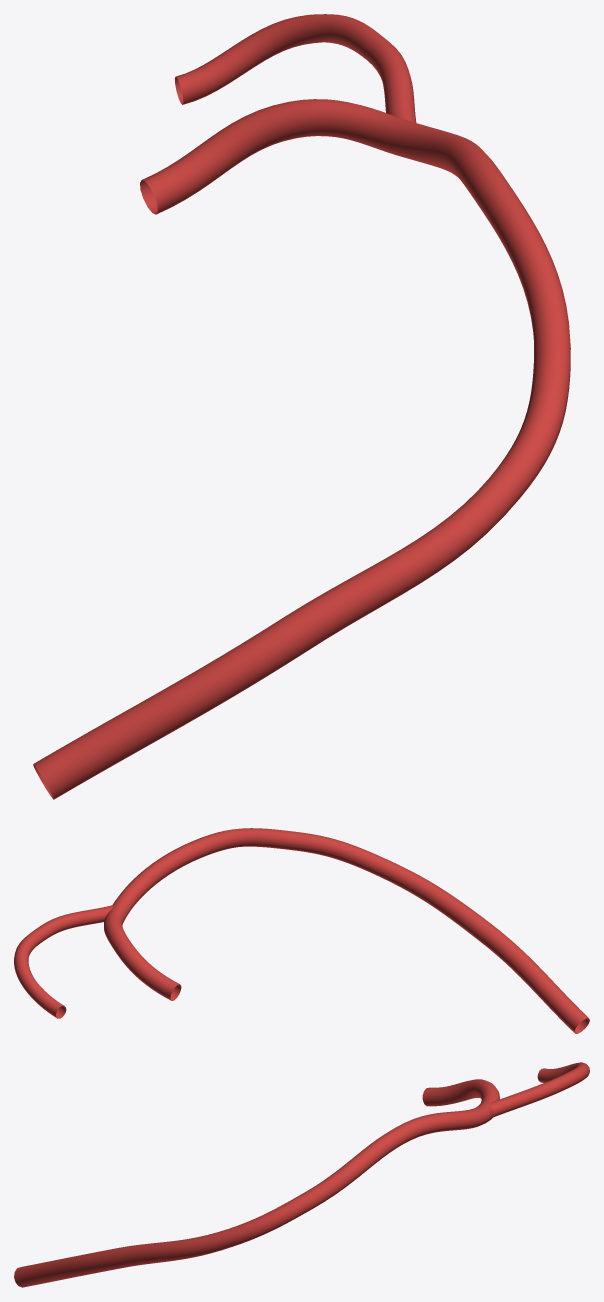
3 views of the same model, one above another, from view 1: azimuth 30°, elevation 25°; view 2: azimuth 150°, elevation 25°; view 3: azimuth 330°, elevation 25° (orthographic). The views are drawn at different scales.
Parts seen in each view (by area): view 1: 左结肠动脉降支; view 2: 左结肠动脉降支; view 3: 左结肠动脉降支.
Part boxes in pixels (bbox=[...]): 左结肠动脉降支: bbox=[33, 14, 570, 799]; 左结肠动脉降支: bbox=[14, 828, 589, 1033]; 左结肠动脉降支: bbox=[14, 1062, 589, 1287].
Size of the model in its own units: 0.0594 by 0.0277 by 0.071.
